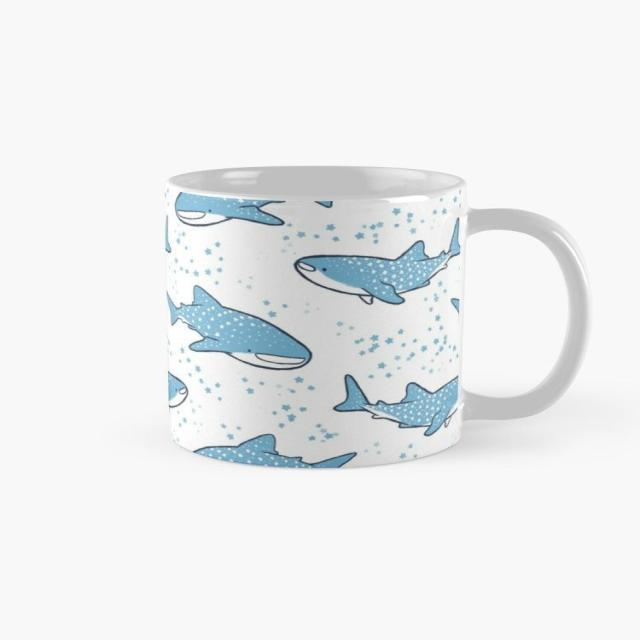glass cup: (162, 165, 591, 469)
